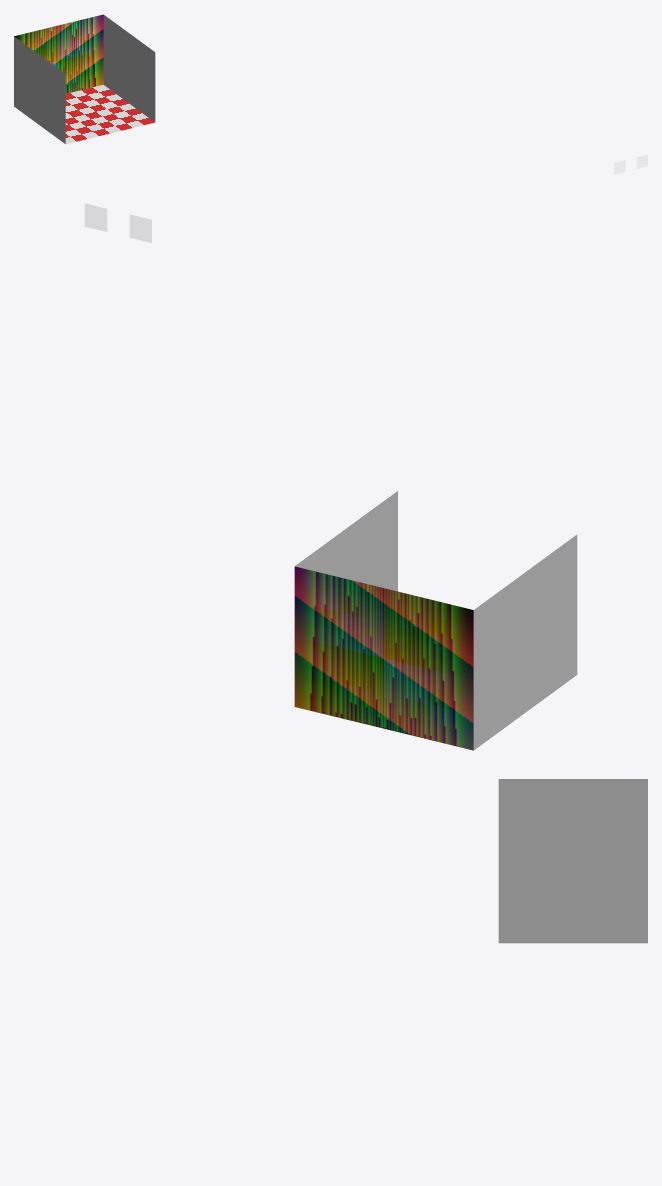
File: TextureTest.glb
3 renders of one model, top to bottom at view 1: azimuth 30°, elevation 25°; view 2: azimuth 150°, elevation 25°; view 3: azimuth 270°, elevation 25°, orthographic. The views are drawn at different scales.
Parts seen in each view (by area): view 1: wall, right_wall, left_wall, floor; view 2: wall, left_wall, right_wall; view 3: right_wall, left_wall.
Part boxes in pixels (box(x1,y1,x2,y2)): wall: box(14, 14, 103, 93); right_wall: box(103, 15, 155, 121); left_wall: box(14, 36, 65, 143); floor: box(65, 84, 154, 144); wall: box(294, 566, 473, 750); left_wall: box(473, 534, 577, 750); right_wall: box(295, 491, 397, 591); right_wall: box(498, 842, 647, 943); left_wall: box(498, 779, 647, 841).
Size of the model in its own units: 37 by 6 by 34.
Materials: 5 (2 with a texture image).
